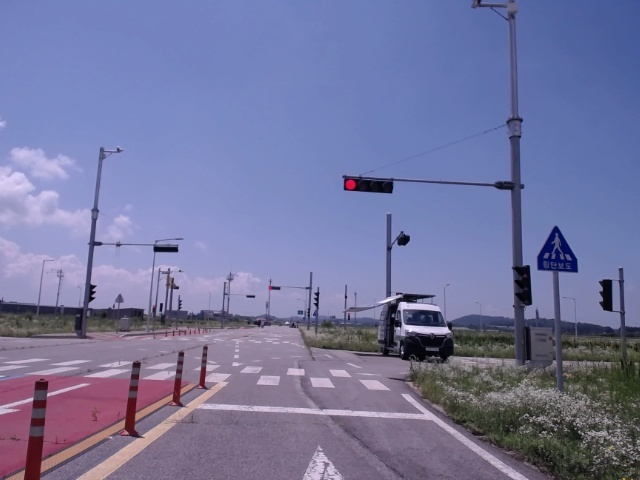red_4: (344, 178, 392, 194)
